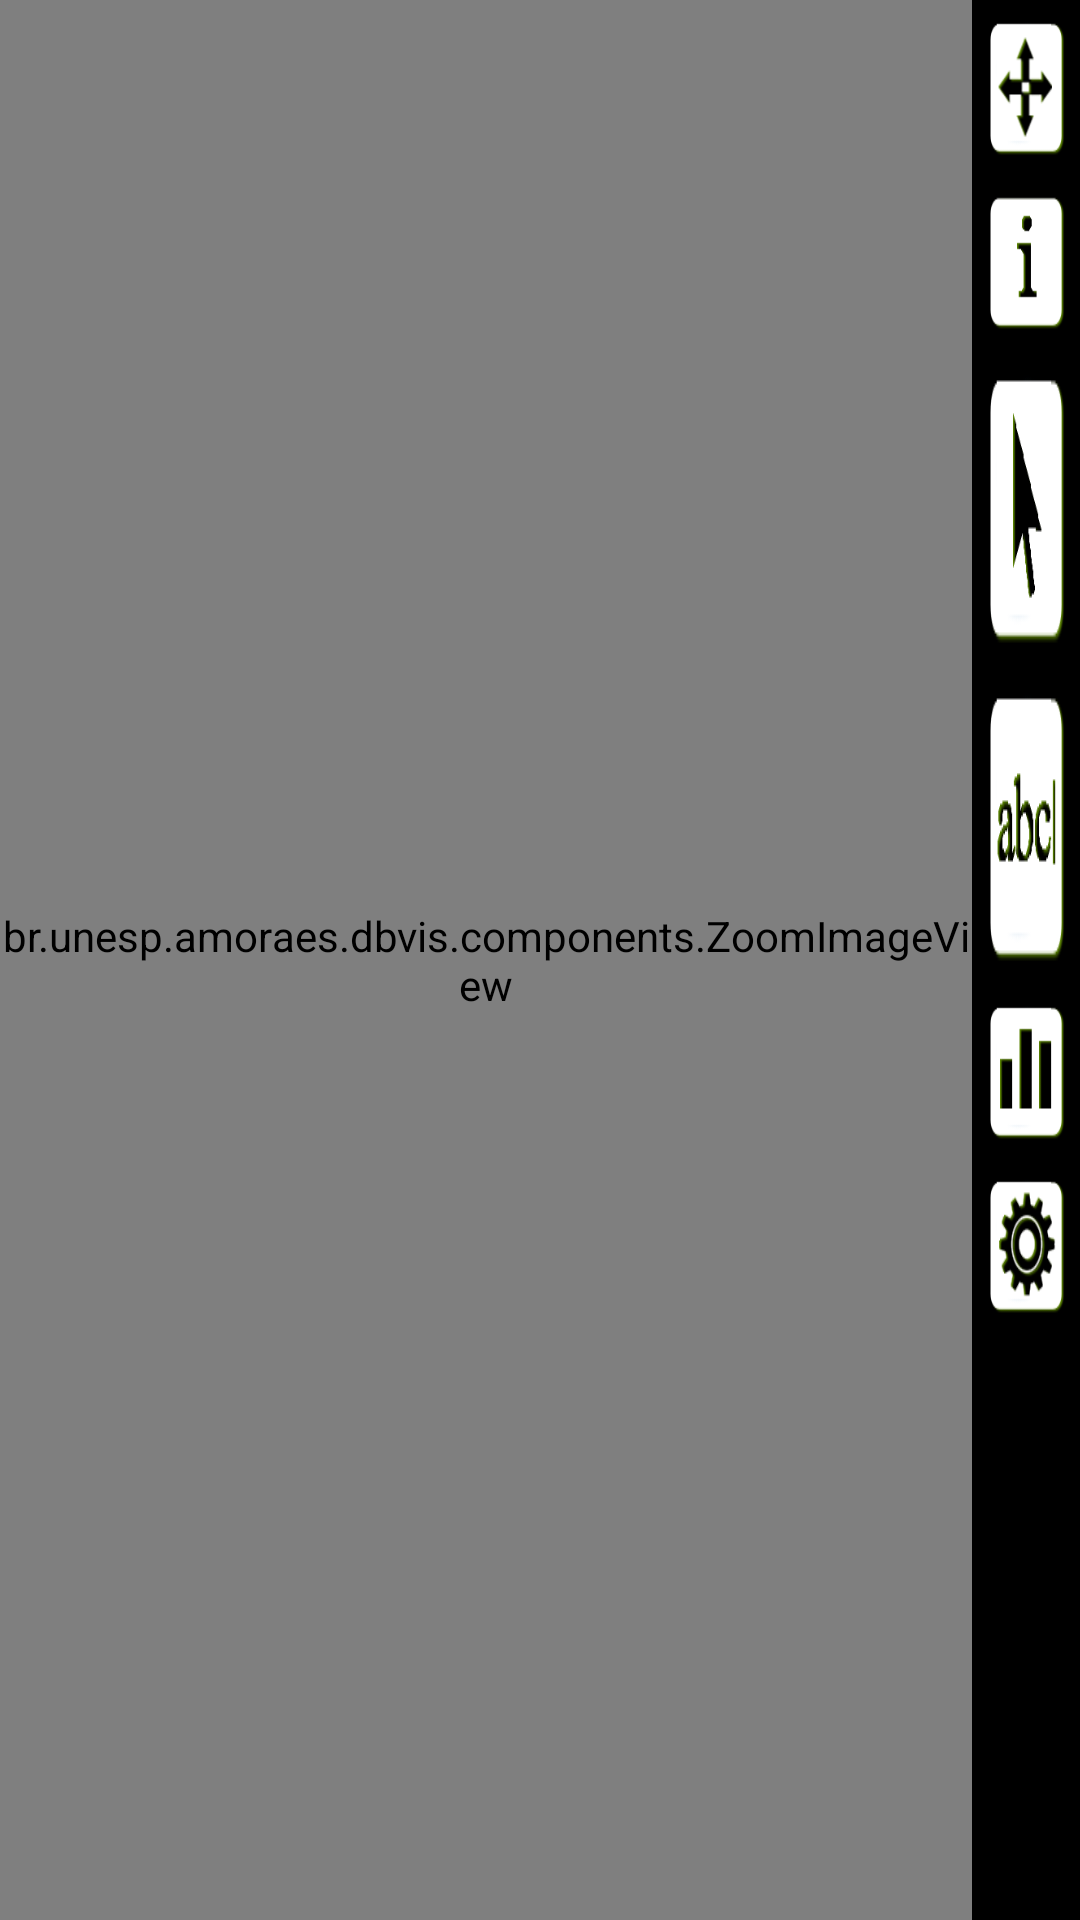

Named icons in this screenshot (1080px x 1920px) and their centers, [x,y]:
toggle chart: [1027,1072]
toggle information: [1027,262]
toggle navegation: [1027,88]
toggle preferences: [1027,1246]
toggle selection: [1027,510]
toggle text: [1027,828]
